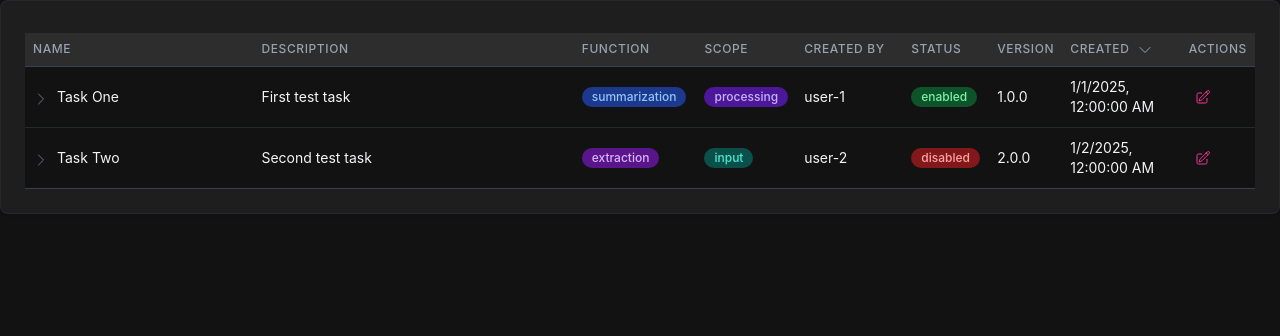
Test: TasksTable Component › Row expansion › collapses row when clicked again
// Find and click the first task row to expand
Click the row with test id "task-row-00000001-0000-0000-0000-000000000001". click: click(640, 97)
box: [25,66,1255,127]
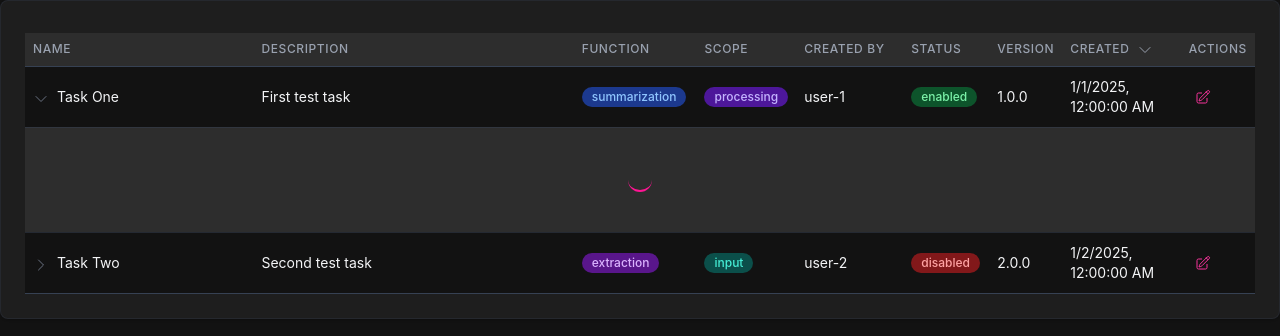
// Click again to collapse
Click the row with test id "task-row-00000001-0000-0000-0000-000000000001". click: click(640, 97)
box: [25,66,1255,127]
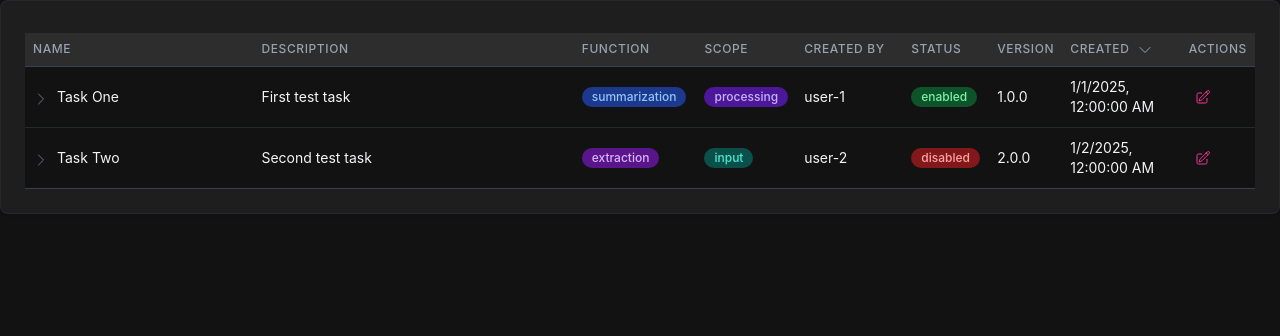
Expected: the element named "Expand row" next to "Task One" is shown, [33,91,49,107]
